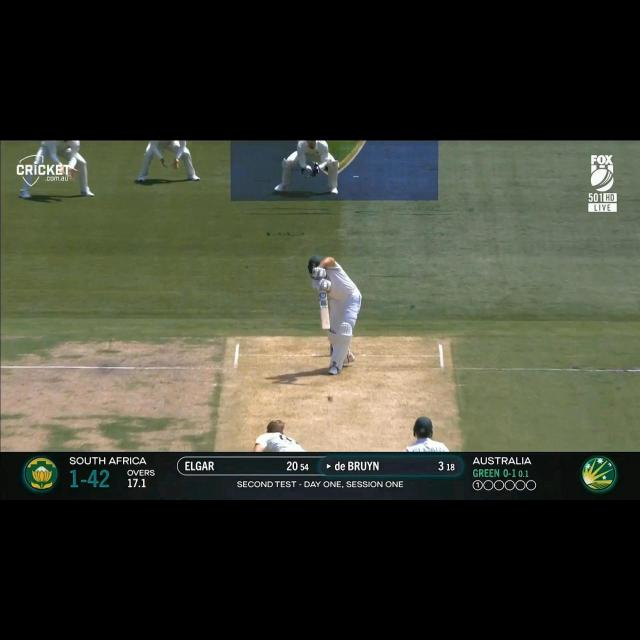bat: (318, 292, 332, 329)
toe: (323, 328, 330, 330)
